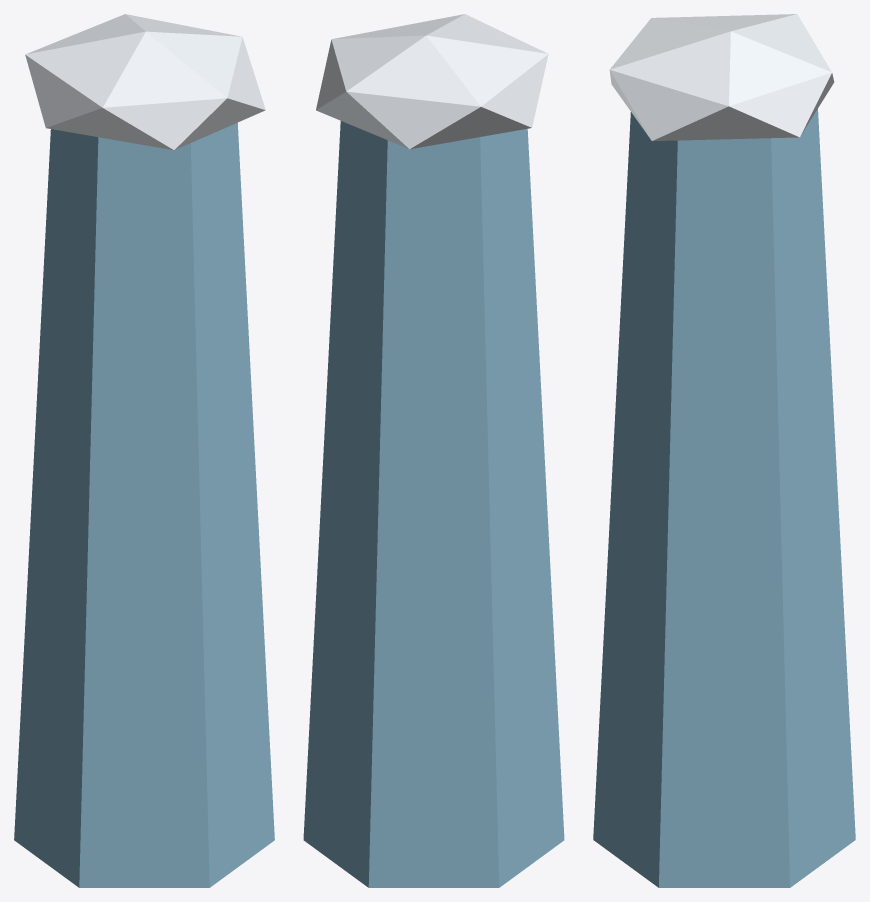
File: ice_pillar.glb
The picture shows the model from 3 angles, left to right: view 1: azimuth 30°, elevation 25°; view 2: azimuth 150°, elevation 25°; view 3: azimuth 270°, elevation 25°; orthographic projection.
Parts seen in each view (by area): view 1: ice_pillar; view 2: ice_pillar; view 3: ice_pillar.
Boxes of the visible parts, box(x1,y1,x2,y2) form: ice_pillar: box(14, 14, 274, 887); ice_pillar: box(303, 14, 564, 887); ice_pillar: box(593, 14, 855, 887).
Bounding box in the file's own units: 0.8798 × 3.41 × 1.
